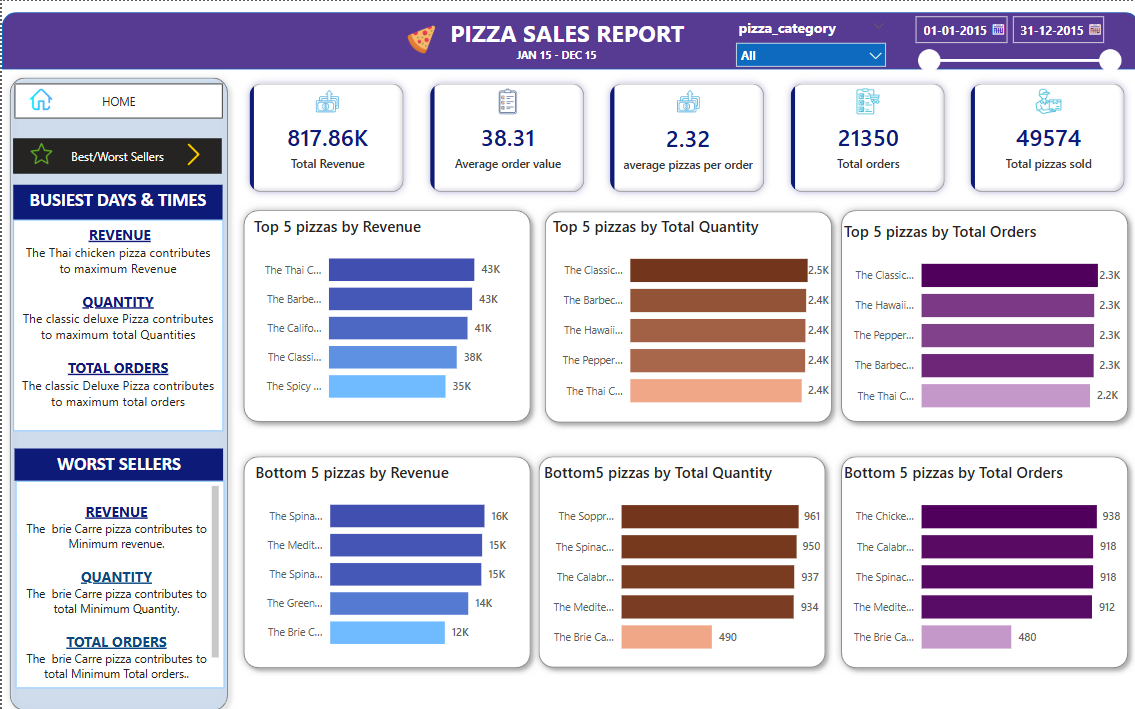

The page's visual inventory and layout, read from the dashboard file:
{"tool":"powerbi","page":{"name":"Best/Worst Sellers","canvas":[1300,820],"ordinal":1},"visuals":[{"type":"cardVisual","fields":{"Data":["pizza_sales.Total Revenue","pizza_sales.Average order value","pizza_sales.average pizzas per order","pizza_sales.Total orders","pizza_sales.Total pizzas sold"]},"box":[266.7,79.1,1033,156.8],"z":0},{"type":"shape","box":[0,13.3,1300,65.6],"z":1000},{"type":"textbox","box":[506.7,13.3,287.8,48.9],"z":2000},{"type":"textbox","box":[0,343.3,347.8,150],"z":3000},{"type":"textbox","box":[582.2,46.7,134.4,37.8],"z":4000},{"type":"image","box":[423.3,23.3,112.2,42.2],"z":5000},{"type":"shape","box":[266.7,230.1,346,260],"z":6000},{"type":"shape","box":[0,78.6,267.1,741.4],"z":7000},{"type":"textbox","box":[13.2,209.5,238.8,41],"z":8000},{"type":"textbox","box":[12.9,250,240,241.4],"z":9000},{"type":"textbox","box":[14.3,511.4,238.6,37.1],"z":10000},{"type":"textbox","box":[15.7,548.6,238.6,237.1],"z":11000},{"type":"slicer","fields":{"Values":["pizza_sales.pizza_category"]},"box":[827.9,14.7,192,61.5],"z":12000},{"type":"slicer","fields":{"Values":["pizza_sales.order_date"]},"box":[1031.6,7.3,256.4,107],"z":13000},{"type":"shape","box":[611,231.5,346,259.4],"z":14000},{"type":"shape","box":[949.5,230.1,346,260],"z":15000},{"type":"shape","box":[266.7,511.4,346,260],"z":16000},{"type":"shape","box":[603.7,511.4,345.8,259.4],"z":17000},{"type":"shape","box":[949.5,511.4,346,260],"z":18000},{"type":"barChart","title":"Top 5 pizzas by Revenue","fields":{"Category":["pizza_sales.pizza_name"],"Y":["pizza_sales.Total Revenue"]},"box":[282.8,246.2,310.6,227.1],"z":19000},{"type":"barChart","title":"Bottom 5 pizzas by Revenue","fields":{"Category":["pizza_sales.pizza_name"],"Y":["pizza_sales.Total Revenue"]},"box":[284.3,527.5,310.6,227.1],"z":20000},{"type":"barChart","title":"Top 5 pizzas by Total Quantity","fields":{"Category":["pizza_sales.pizza_name"],"Y":["pizza_sales.Total pizzas sold"]},"box":[624.3,245.7,325.7,232.9],"z":20001},{"type":"barChart","title":"Bottom5 pizzas by Total Quantity","fields":{"Category":["pizza_sales.pizza_name"],"Y":["pizza_sales.Total pizzas sold"]},"box":[614.3,527.1,325.7,232.9],"z":20002},{"type":"barChart","title":"Top 5 pizzas by Total Orders","fields":{"Category":["pizza_sales.pizza_name"],"Y":["pizza_sales.Total orders"]},"box":[957.1,251.4,325.7,232.9],"z":20003},{"type":"barChart","title":"Bottom 5 pizzas by Total Orders","fields":{"Category":["pizza_sales.pizza_name"],"Y":["pizza_sales.Total orders"]},"box":[957.1,527.1,325.7,232.9],"z":20004},{"type":"pageNavigator","box":[12.9,157.1,238.6,40],"z":20005},{"type":"pageNavigator","box":[14.3,94.3,238.6,40],"z":20006},{"type":"image","box":[201.4,152.9,35.7,44.3],"z":20007},{"type":"image","box":[27.1,90,35.7,44.3],"z":20008},{"type":"image","box":[27.1,157.1,35.7,34.3],"z":20009}]}

Visuals, with their boxes in screenshot pixels (x1, y1, x2, y2), scaled from the page's 1300x820 canvas onto the 1135x709 screenshot:
cardVisual - pizza_sales.Total Revenue x pizza_sales.Average order value: [left=233, top=68, right=1134, bottom=204]
shape: [left=0, top=11, right=1134, bottom=68]
textbox: [left=442, top=11, right=694, bottom=54]
textbox: [left=0, top=297, right=304, bottom=427]
textbox: [left=508, top=40, right=626, bottom=73]
image: [left=370, top=20, right=468, bottom=57]
shape: [left=233, top=199, right=535, bottom=424]
shape: [left=0, top=68, right=233, bottom=708]
textbox: [left=12, top=181, right=220, bottom=217]
textbox: [left=11, top=216, right=221, bottom=425]
textbox: [left=12, top=442, right=221, bottom=474]
textbox: [left=14, top=474, right=222, bottom=679]
slicer - pizza_sales.pizza_category: [left=723, top=13, right=890, bottom=66]
slicer - pizza_sales.order_date: [left=901, top=6, right=1125, bottom=99]
shape: [left=533, top=200, right=836, bottom=424]
shape: [left=829, top=199, right=1131, bottom=424]
shape: [left=233, top=442, right=535, bottom=667]
shape: [left=527, top=442, right=829, bottom=666]
shape: [left=829, top=442, right=1131, bottom=667]
"Top 5 pizzas by Revenue" barChart: [left=247, top=213, right=518, bottom=409]
"Bottom 5 pizzas by Revenue" barChart: [left=248, top=456, right=519, bottom=652]
"Top 5 pizzas by Total Quantity" barChart: [left=545, top=212, right=829, bottom=414]
"Bottom5 pizzas by Total Quantity" barChart: [left=536, top=456, right=821, bottom=657]
"Top 5 pizzas by Total Orders" barChart: [left=836, top=217, right=1120, bottom=419]
"Bottom 5 pizzas by Total Orders" barChart: [left=836, top=456, right=1120, bottom=657]
pageNavigator: [left=11, top=136, right=220, bottom=170]
pageNavigator: [left=12, top=82, right=221, bottom=116]
image: [left=176, top=132, right=207, bottom=171]
image: [left=24, top=78, right=55, bottom=116]
image: [left=24, top=136, right=55, bottom=165]
